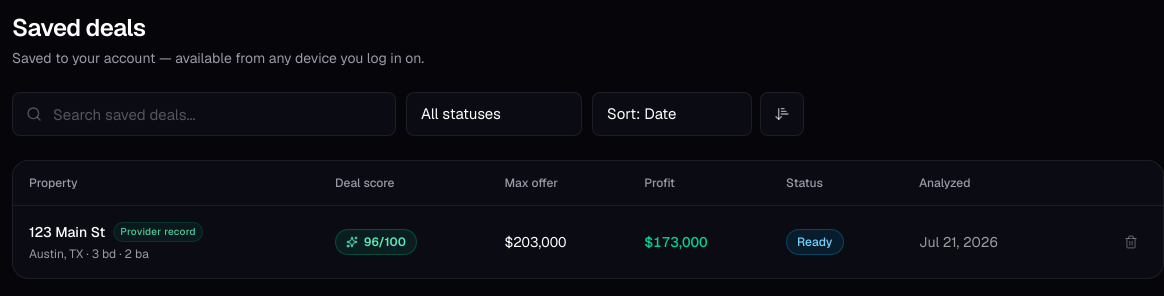
Test: DealsListPage — search, filter, sort › toggles sort direction via the compact icon button (no Asc/Desc dropdown)
Click the button named "Sorted descending — click to sort ascending" at [782, 114], box [760,92,804,136]
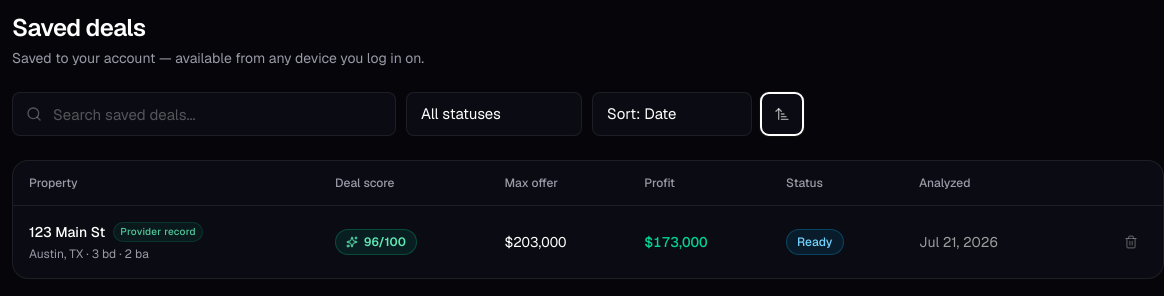
Check: the button named "Sorted ascending — click to sort descending" is shown, box [760,92,804,136]
